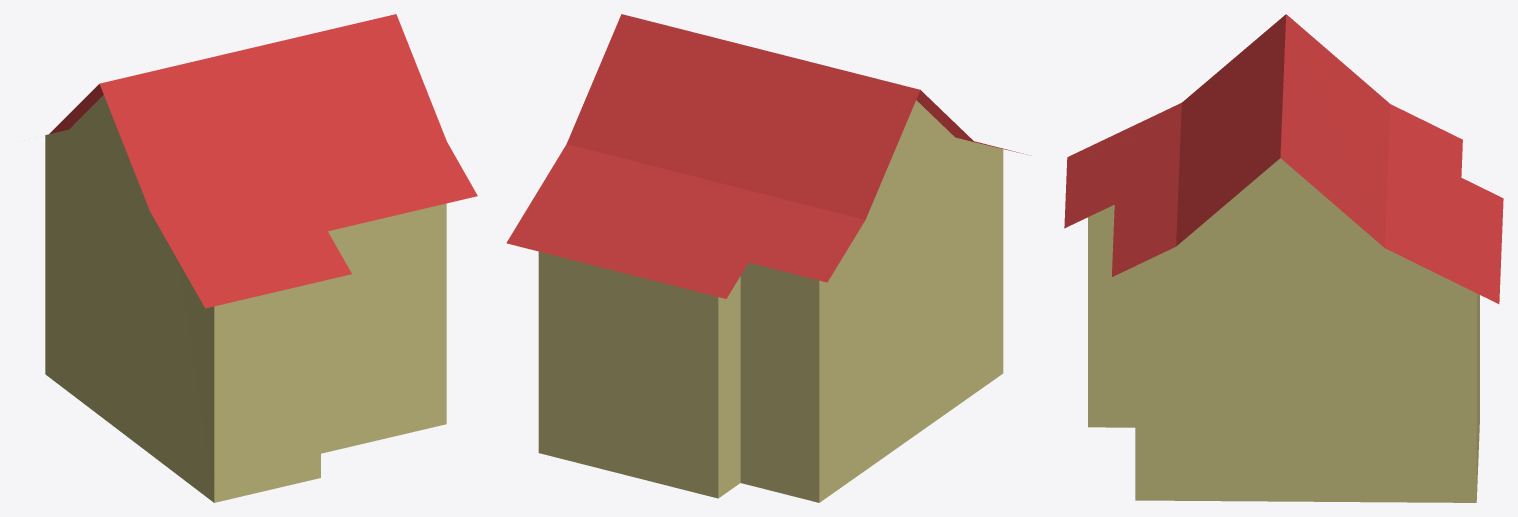
3 renders of one model, left to right at view 1: azimuth 30°, elevation 25°; view 2: azimuth 150°, elevation 25°; view 3: azimuth 270°, elevation 25°, orthographic. The views are drawn at different scales.
Size of the model in its own units: 11.33 by 14.29 by 12.68.
